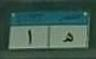1: (27, 28, 33, 44)
haa: (61, 31, 75, 44)
